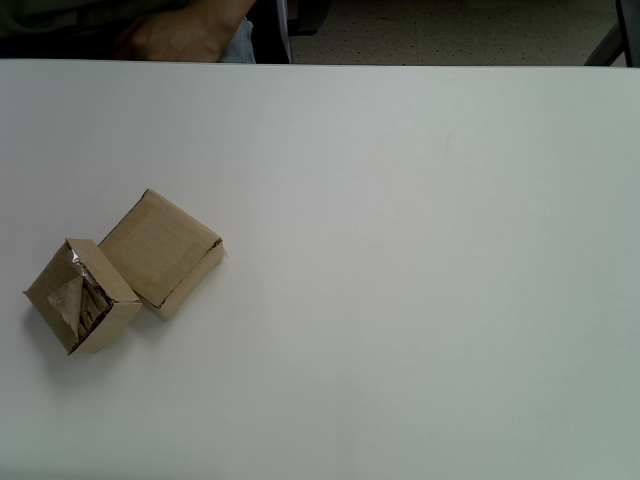defect: (23, 238, 143, 358)
normal: (97, 188, 225, 320)
